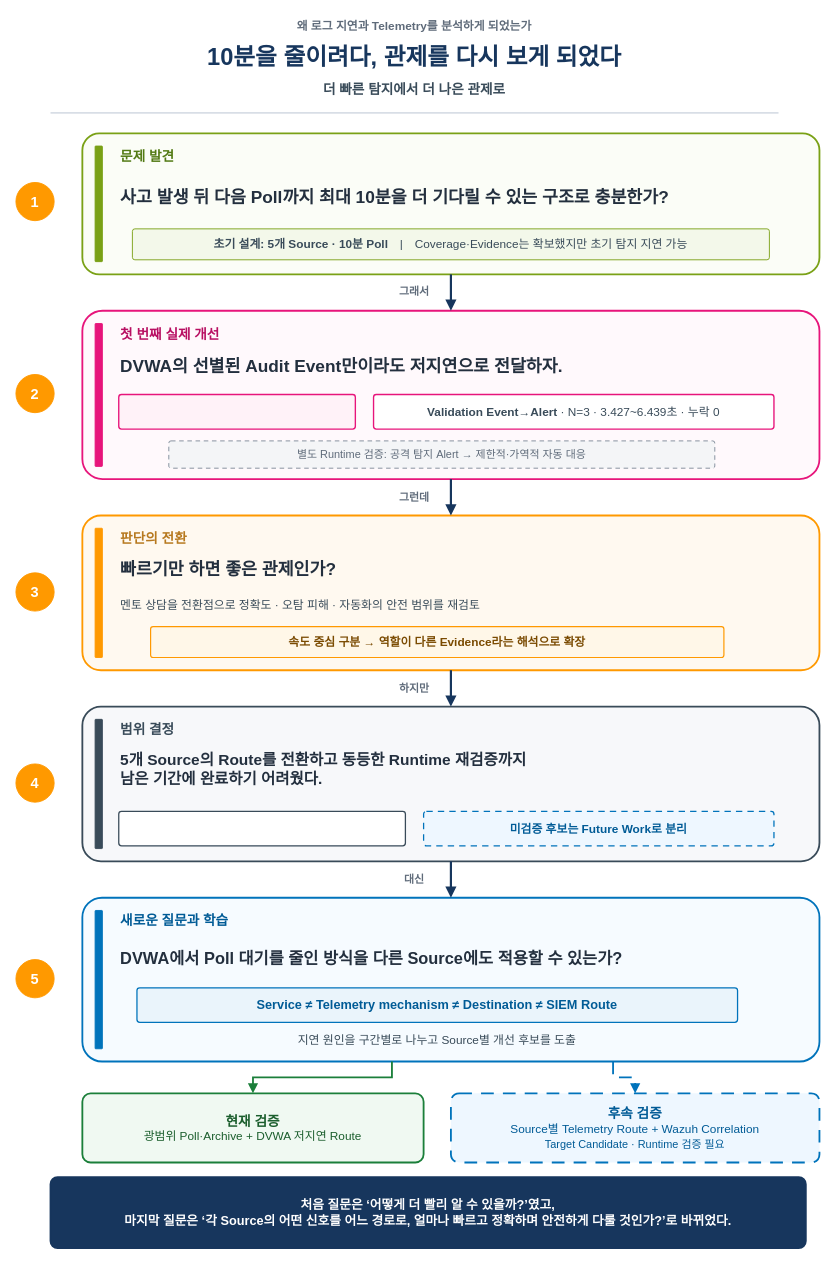
This 836x1264 diagram has some shape labels left out. The shapes that lost their labels are listed below. From the top down, each one's centre as x and y in pixels, then its label:
At point 237,411: "DVWA 저지연 Route 구현".
At point 262,828: "검증된 Baseline 유지".
